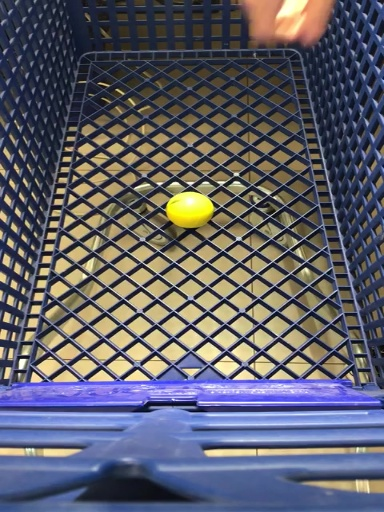Palla: (165, 192, 214, 229)
